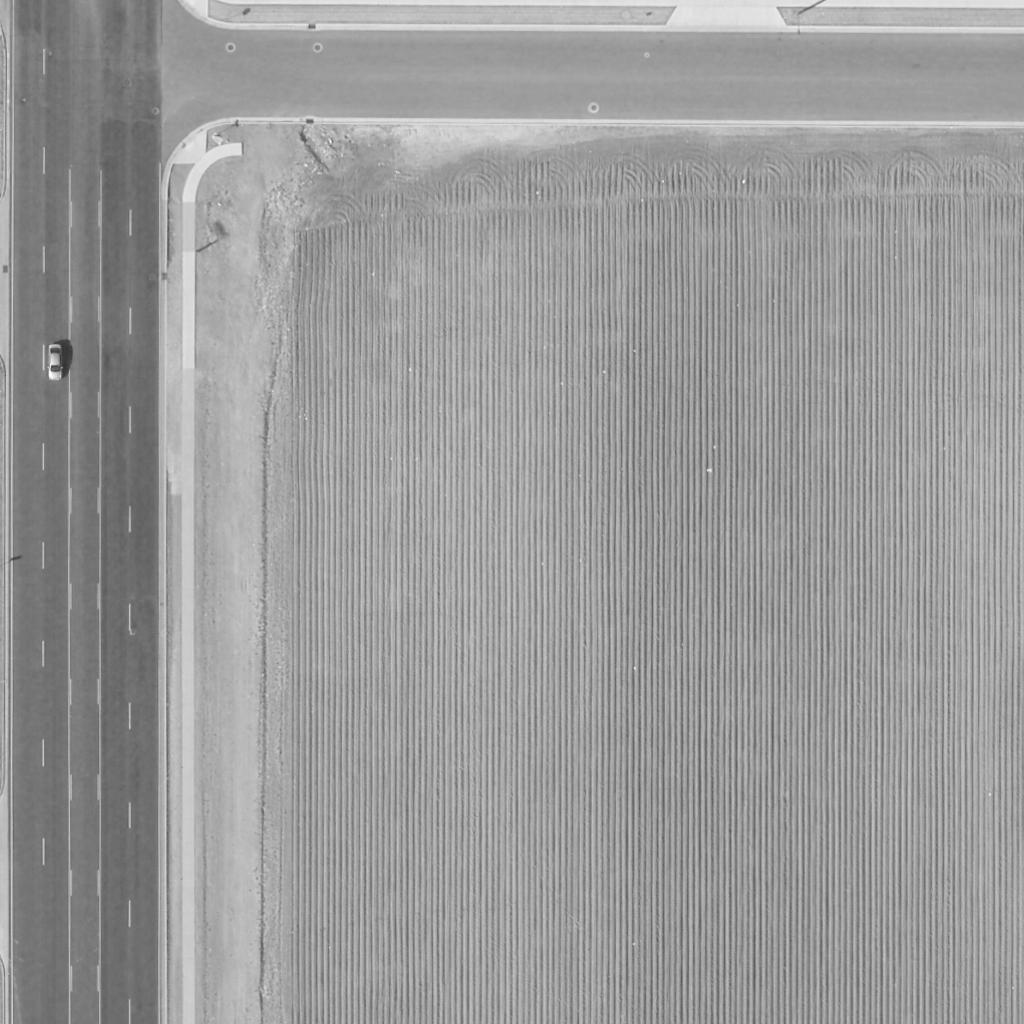vehicle: (47, 343, 65, 381)
